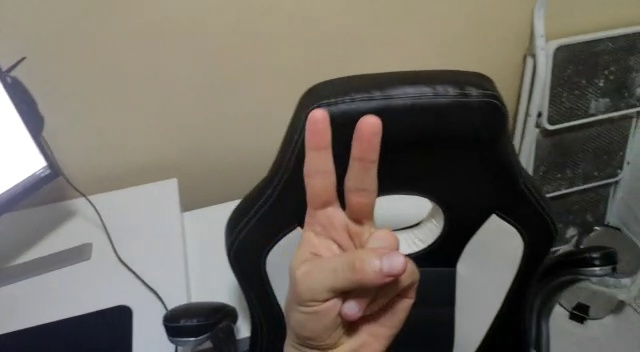Peace: (272, 102, 421, 351)
